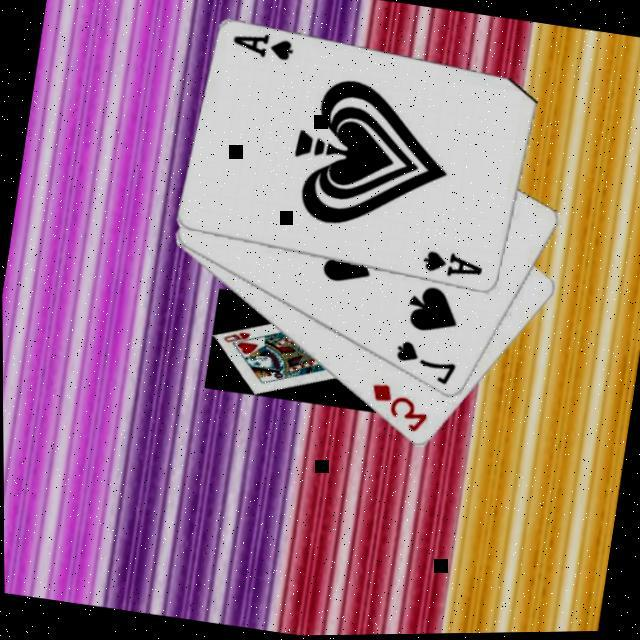3D: (361, 382, 433, 442)
7S: (388, 338, 460, 394)
AS: (227, 28, 298, 68), (418, 249, 487, 290)
